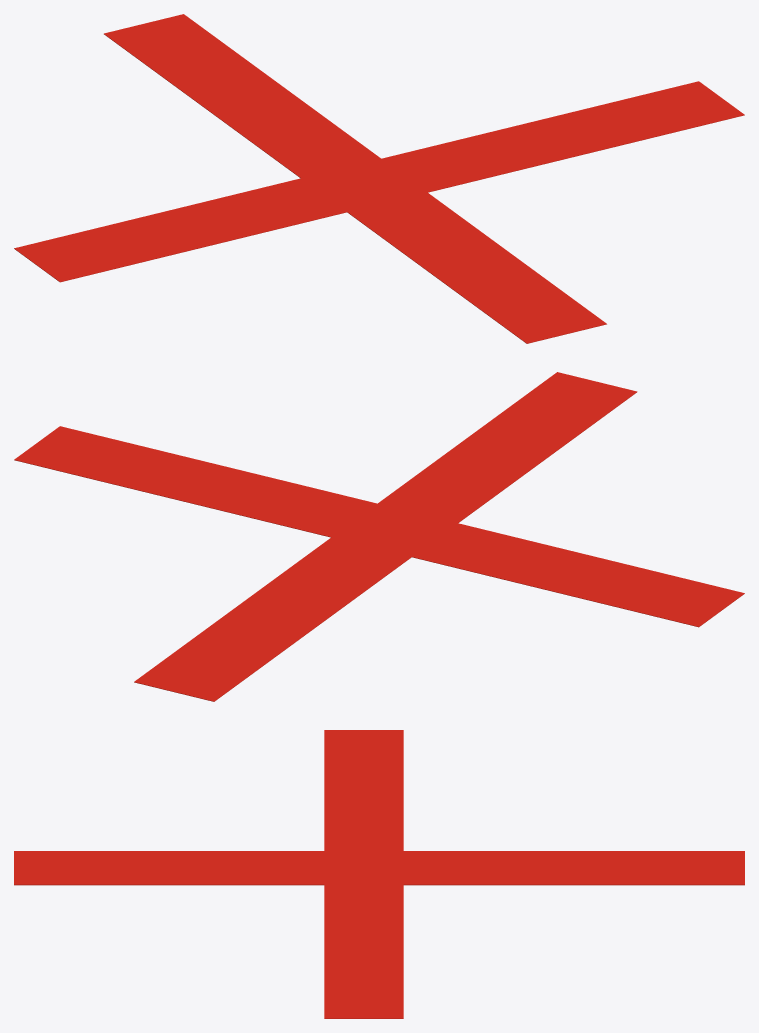
File: red cross.fbx
The picture shows the model from 3 angles, top to bottom: view 1: azimuth 30°, elevation 25°; view 2: azimuth 150°, elevation 25°; view 3: azimuth 270°, elevation 25°; orthographic projection. The views are drawn at different scales.
Parts seen in each view (by area): view 1: Plane; view 2: Plane; view 3: Plane.
Boxes of the visible parts, <box> form: Plane: <box>14,14,744,343</box>; Plane: <box>14,372,744,701</box>; Plane: <box>14,730,744,1018</box>.
Size of the model in its own units: 1707 by 1 by 1827.
